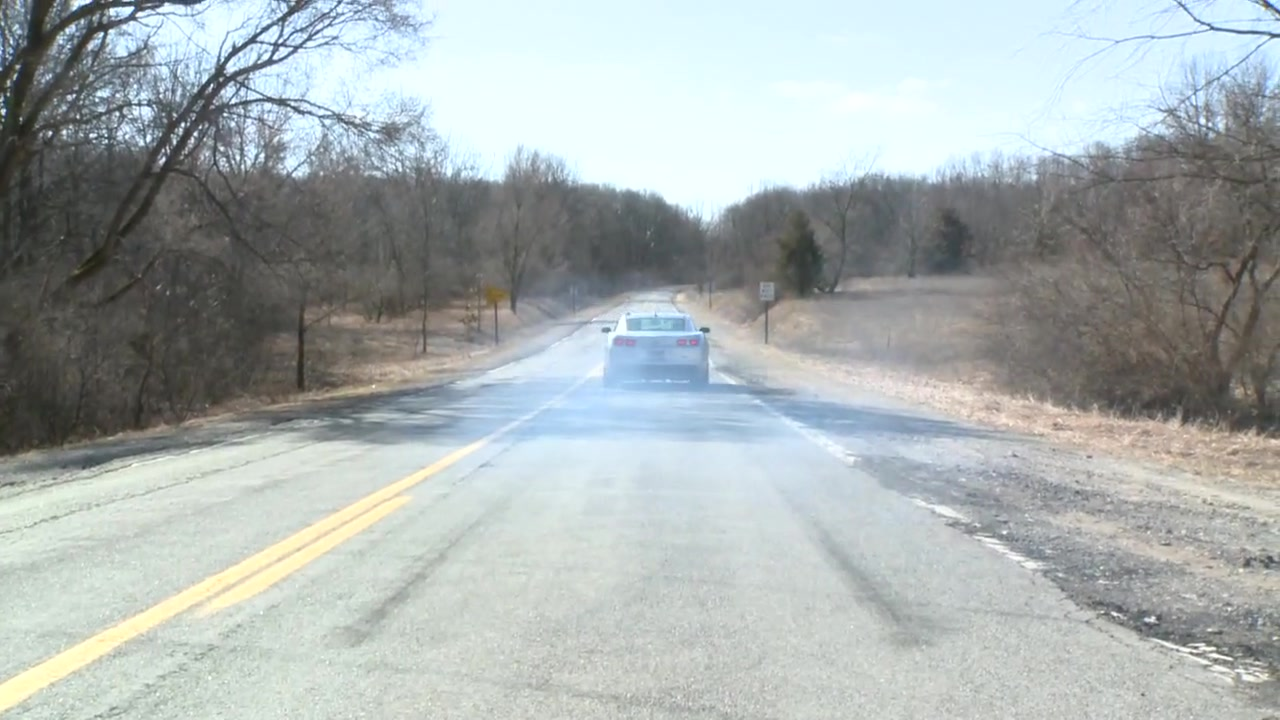car: (600, 307, 715, 393)
